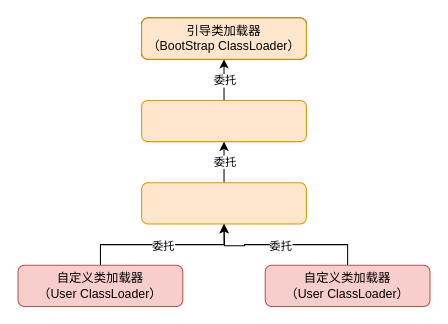
Image size: 448x324. Some labels were removed from this diagram. The shapes that lost their labels are listed below. From the top down, each one's box as (x1, y1, x2, y2) in pixels, then its label:
(141, 99, 306, 142): 扩展类加载器 （Extension ClassLoader）
(141, 182, 306, 224): 应用程序类加载器 （Application ClassLoader）
